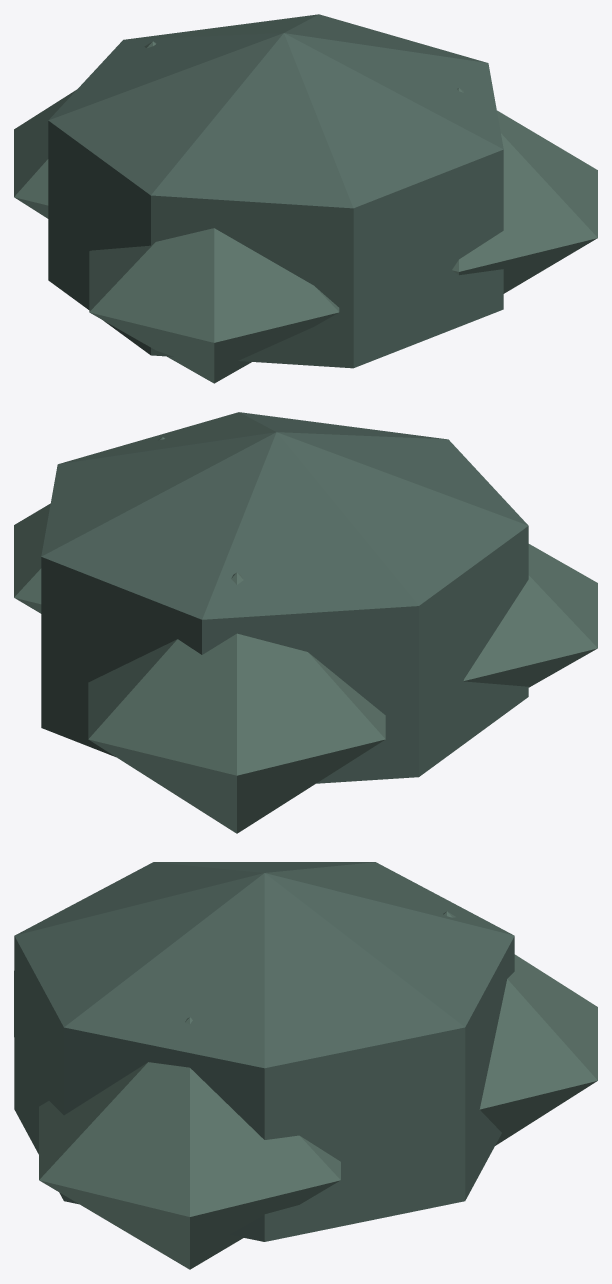
File: prop_bush_empty.glb
3 renders of one model, top to bottom at view 1: azimuth 30°, elevation 25°; view 2: azimuth 150°, elevation 25°; view 3: azimuth 270°, elevation 25°, orthographic. The views are drawn at different scales.
Visible parts, largest first — view 1: body; view 2: body; view 3: body.
Boxes of the visible parts, bbox=[...] form: body: bbox=[14, 14, 597, 383]; body: bbox=[14, 412, 597, 833]; body: bbox=[14, 862, 597, 1269].
Bounding box in the file's own units: 1.9 × 1.1 × 1.68.
